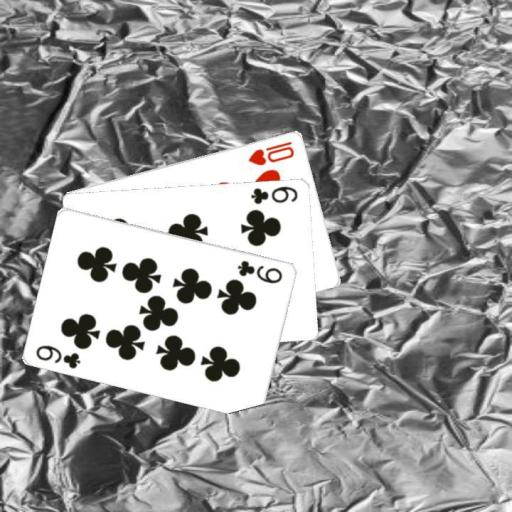10H: (245, 138, 296, 167)
6C: (249, 182, 300, 206)
9C: (33, 341, 83, 370), (234, 257, 284, 285)
